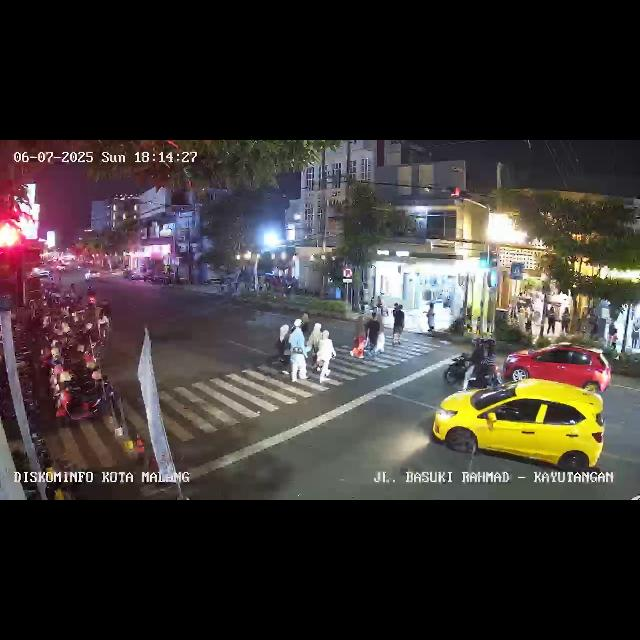car: (431, 384, 609, 472), (503, 342, 612, 393)
motorcycle: (440, 339, 504, 391)
person: (321, 322, 337, 383), (289, 319, 303, 385), (279, 324, 293, 374), (392, 302, 406, 344), (352, 313, 364, 362), (310, 323, 322, 371), (97, 304, 111, 342), (366, 312, 378, 356), (84, 302, 96, 344), (374, 315, 386, 353), (425, 302, 437, 336), (560, 306, 570, 334), (524, 302, 532, 334), (548, 307, 556, 337), (632, 325, 640, 349), (610, 328, 618, 348)
